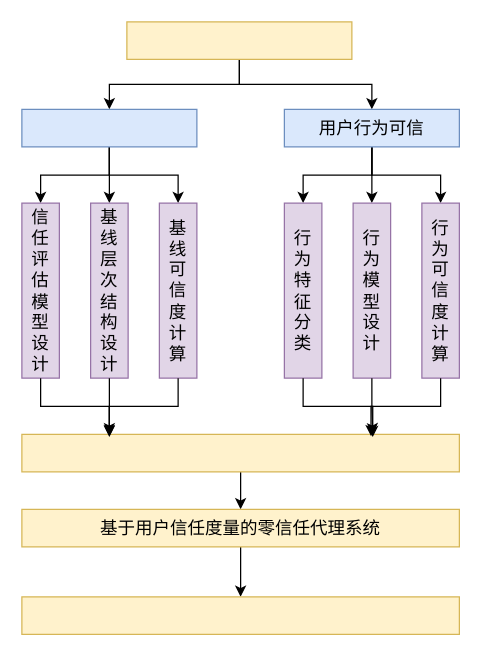
The diagram is 481 pixels wide and 656 high, and some of its shapes have lost their labels. The shapes that lost their labels are listed below. From the top down, each one's centre as x and y in pixels, then its label:
the point at 239,40: 接入用户信任度量
the point at 109,127: 终端环境可信
the point at 240,452: 接入用户综合信任度量
the point at 240,615: 零信任代理系统应用
